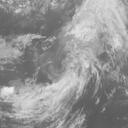cyclone: (42, 44, 103, 106)
